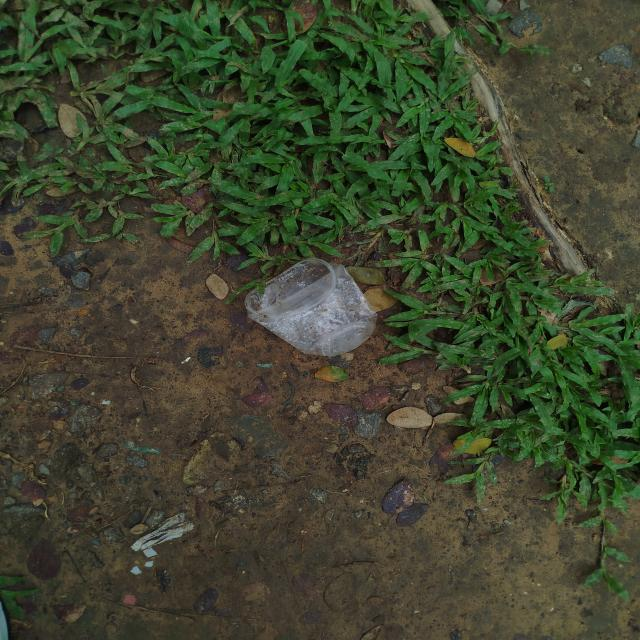plastic: (242, 252, 392, 362)
